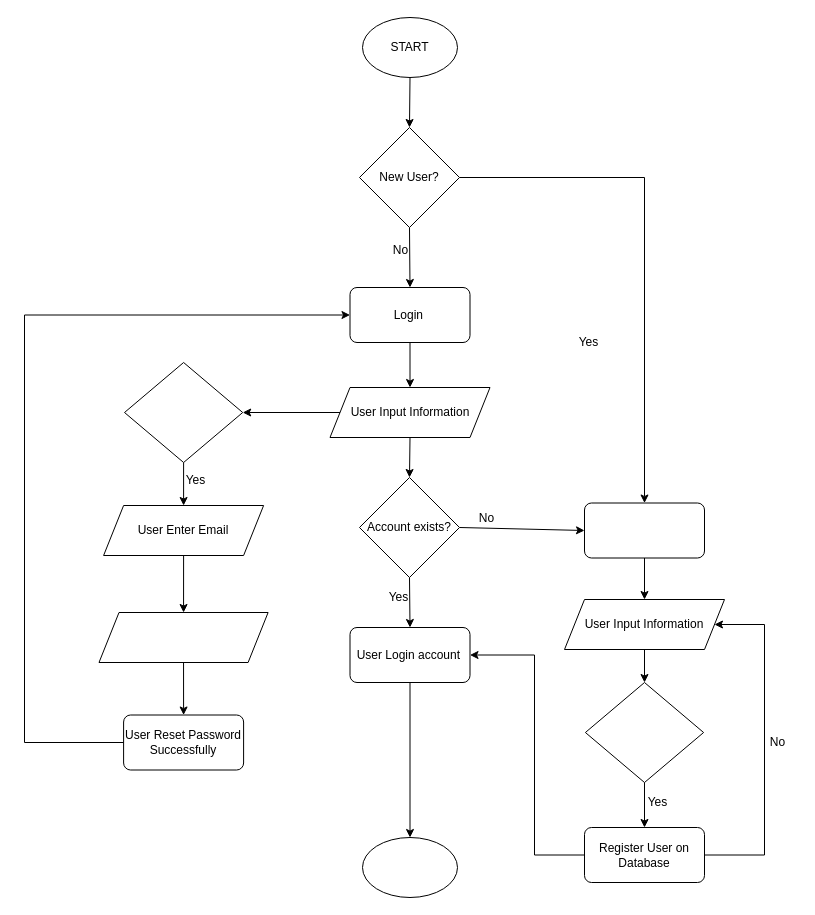
Image size: 815x915. Some labels were removed from this diagram. Each missing label, with the centre of its shape:
All Information Valid?: [644,732]
END: [410,867]
Forget Password?: [183,412]
Register: [644,530]
User Reset New Password: [183,637]
